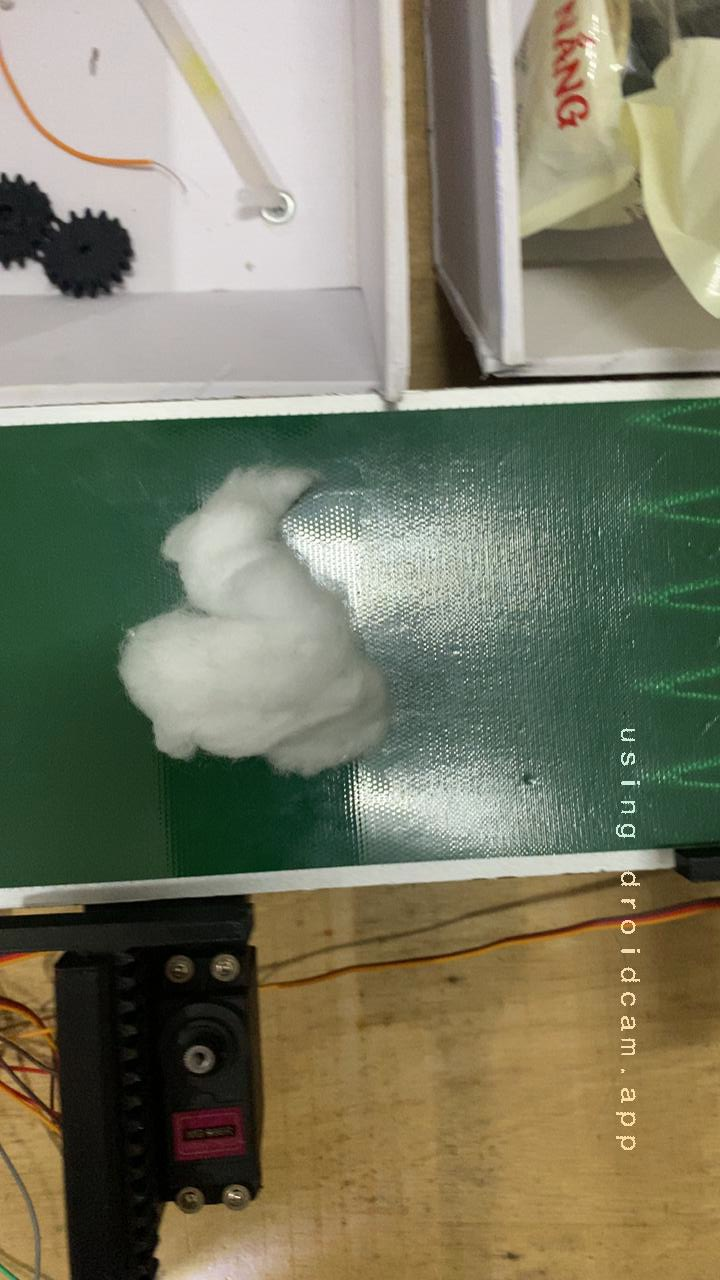cotton: (87, 444, 418, 805)
